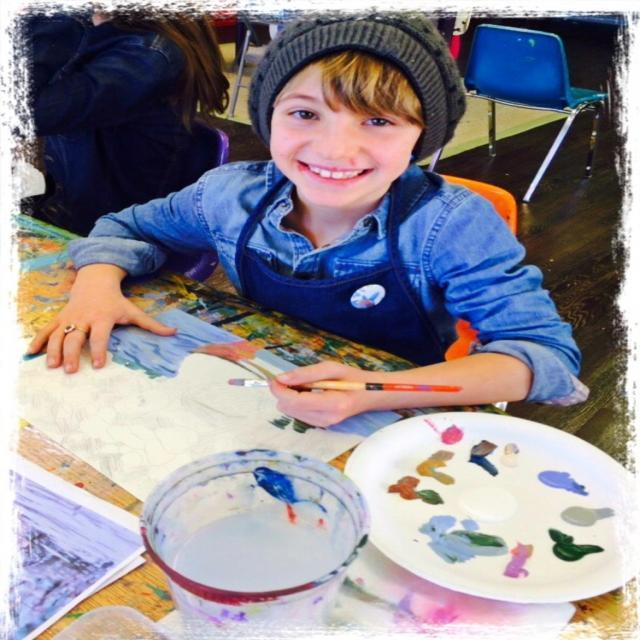ceramic plate: (331, 415, 640, 634)
